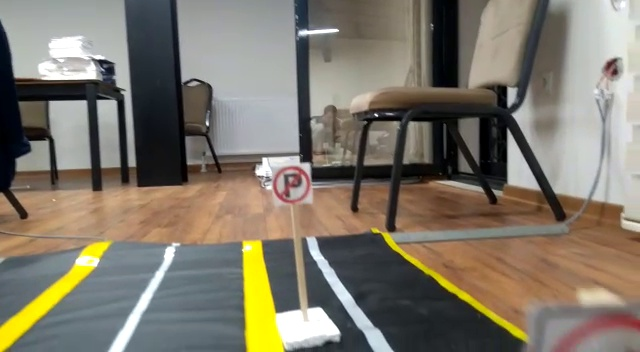park_yapilmaz: (273, 165, 311, 204)
